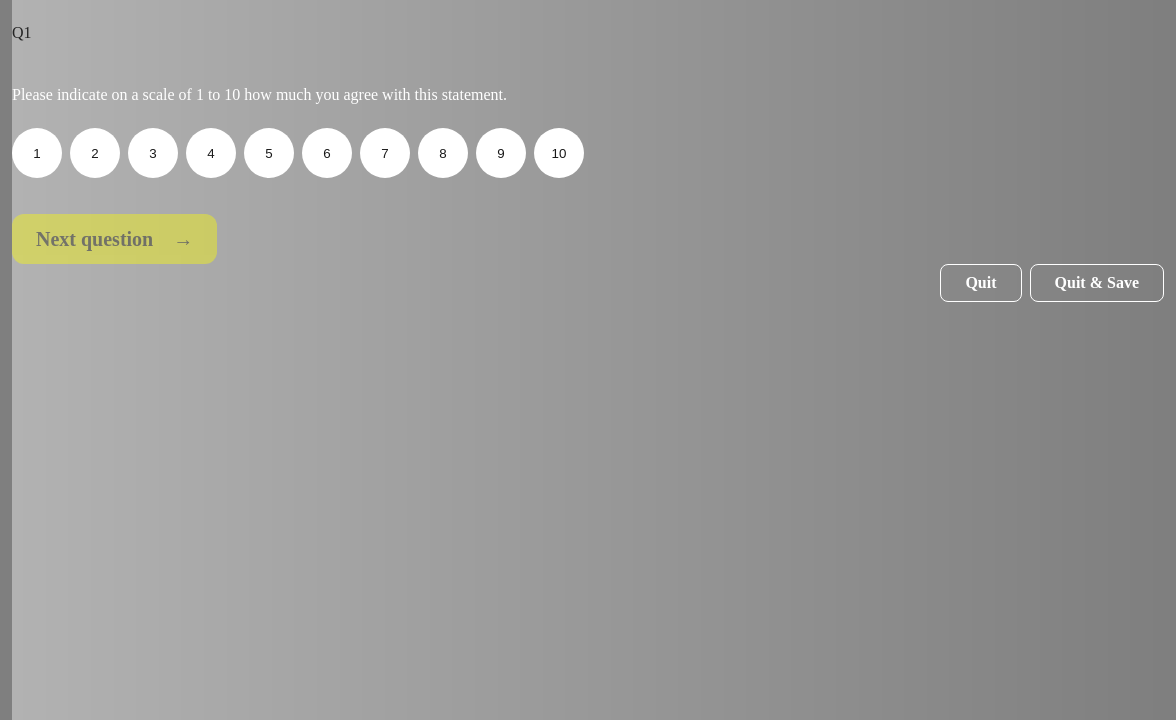
it: QuestionForm › question completion w/o follow-up
The image size is (1176, 720).
Expected: the button "Next question →" is disabled, top-left (12, 214), bottom-right (217, 264)
Click the radio button named "Rate 5".
click(269, 153)  # box top-left (244, 128), bottom-right (294, 178)
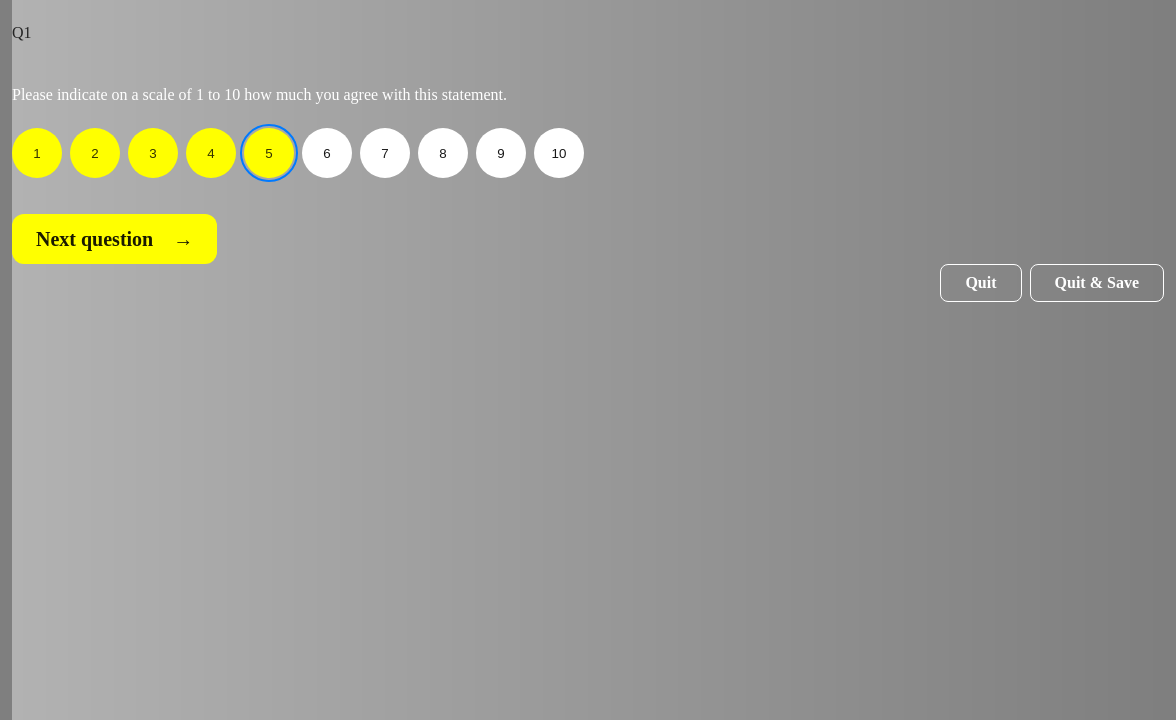
Now the button "Next question →" is enabled, box top-left (12, 214), bottom-right (217, 264)
